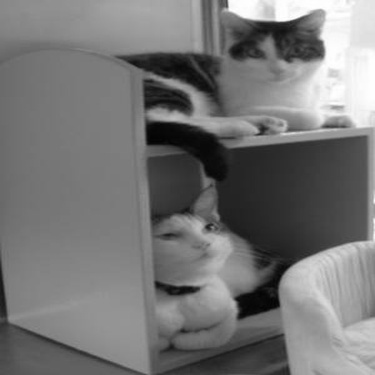cat: (96, 8, 362, 155), (126, 184, 283, 351)
